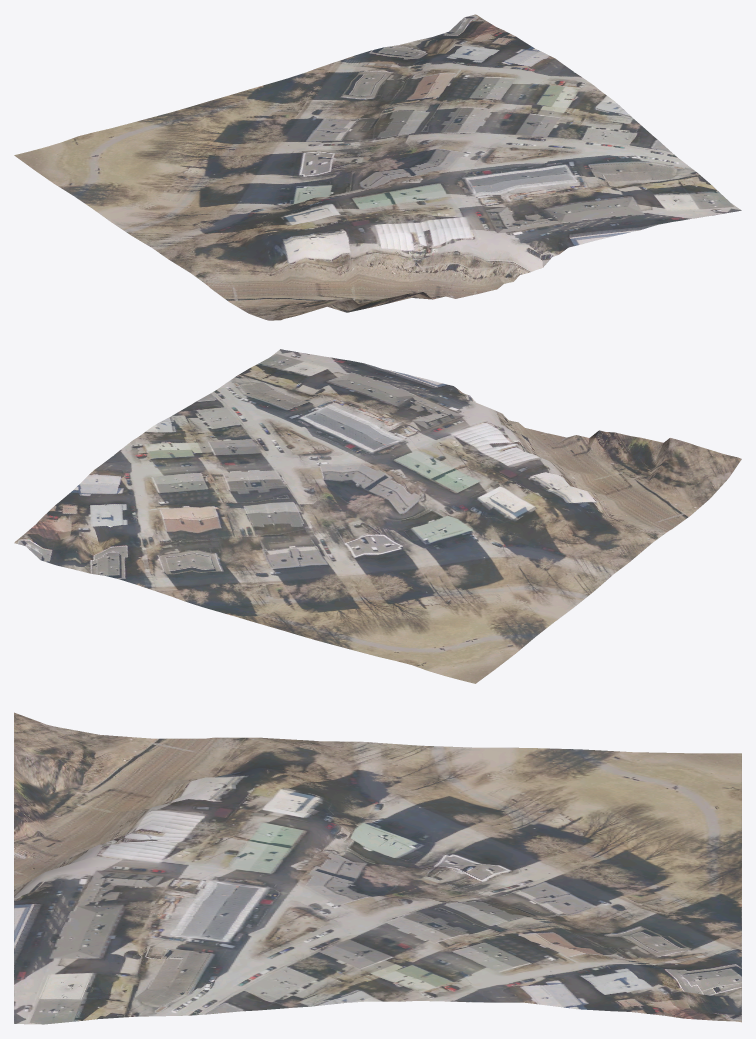
File: CM_Terrain_24487592_6821841.fbx
3 renders of one model, top to bottom at view 1: azimuth 30°, elevation 25°; view 2: azimuth 150°, elevation 25°; view 3: azimuth 270°, elevation 25°, orthographic. The views are drawn at different scales.
Parts seen in each view (by area): view 1: CM_Terrain_24487592_6821841_LOD0; view 2: CM_Terrain_24487592_6821841_LOD0; view 3: CM_Terrain_24487592_6821841_LOD0.
Part boxes in pixels (x1=…): CM_Terrain_24487592_6821841_LOD0: x1=14, y1=14, x2=741, y2=320; CM_Terrain_24487592_6821841_LOD0: x1=14, y1=349, x2=741, y2=683; CM_Terrain_24487592_6821841_LOD0: x1=14, y1=712, x2=741, y2=1024.
Size of what is drawn, in the model's own units: 205 by 18.69 by 205.
